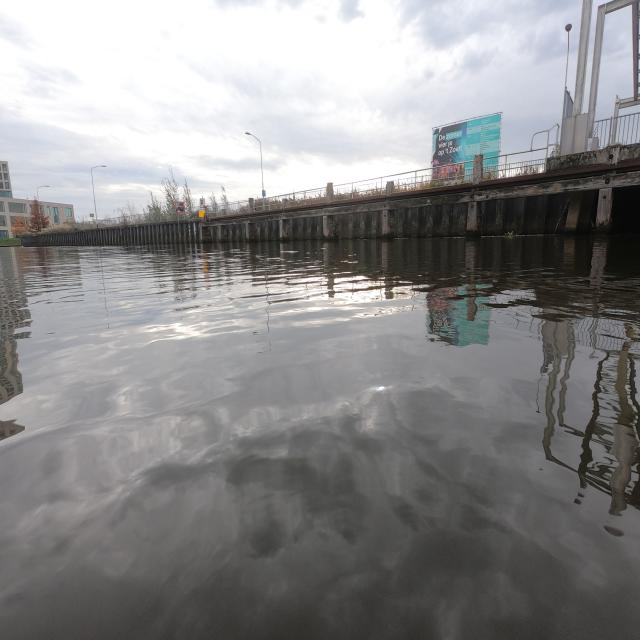wall: (30, 143, 640, 246)
water: (0, 232, 640, 640)
